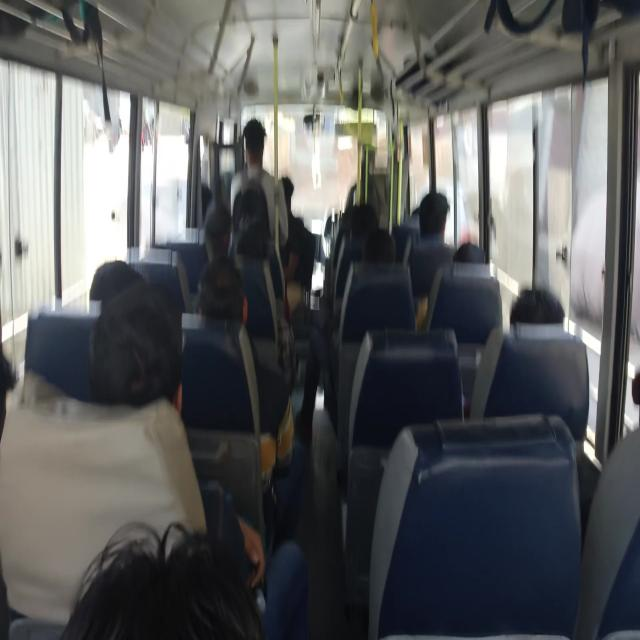person: (46, 510, 313, 640), (110, 298, 200, 441), (83, 250, 158, 338), (0, 357, 49, 479), (510, 260, 573, 344), (222, 111, 265, 178), (274, 172, 314, 236), (198, 278, 249, 324), (616, 352, 640, 441), (210, 212, 243, 260), (151, 242, 189, 283), (369, 237, 396, 291), (423, 190, 450, 244), (356, 208, 386, 251), (451, 228, 485, 259), (238, 238, 270, 269), (194, 176, 221, 211), (238, 204, 264, 237), (408, 198, 432, 220)
